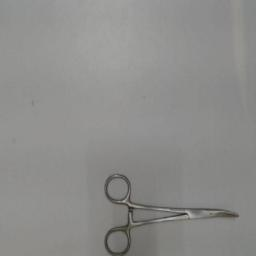Crile Artery Forceps: (103, 164, 245, 256)
